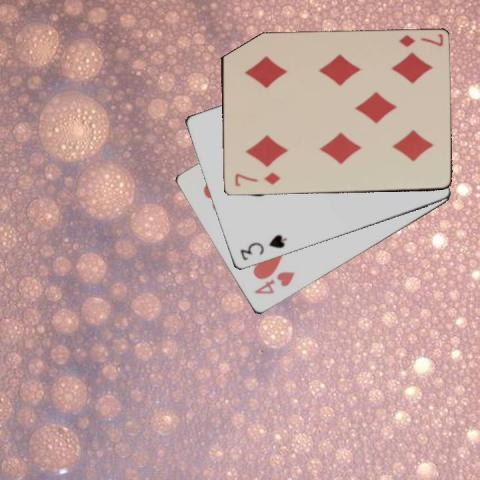3s: (237, 232, 288, 262)
4h: (251, 269, 296, 296)
7d: (232, 169, 282, 188), (395, 31, 445, 49)
